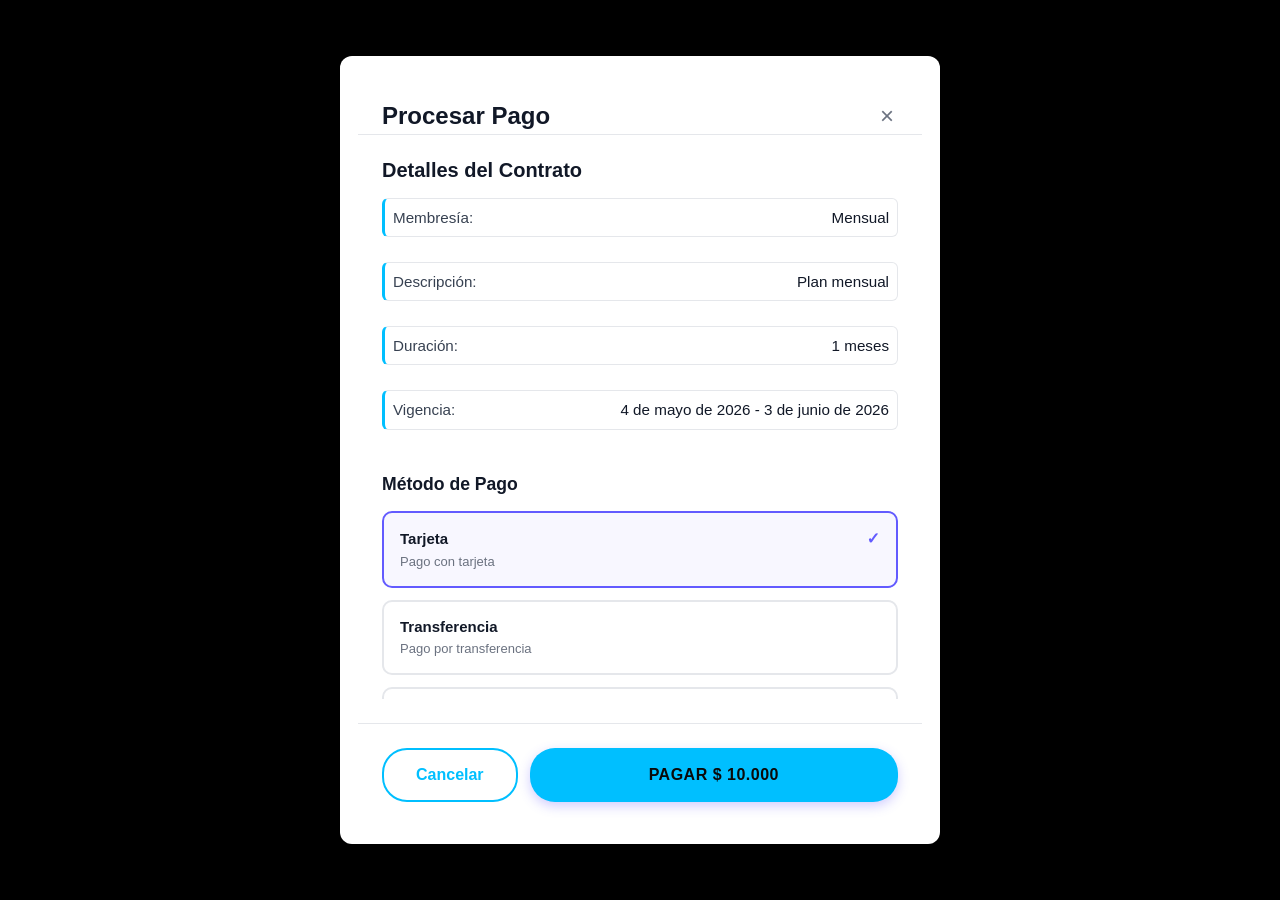
Test: PagoModal › muestra datos bancarios completos cuando se selecciona transferencia
Click the text "Transferencia" at (449, 627), box [400, 618, 498, 635]
(page scrolled)
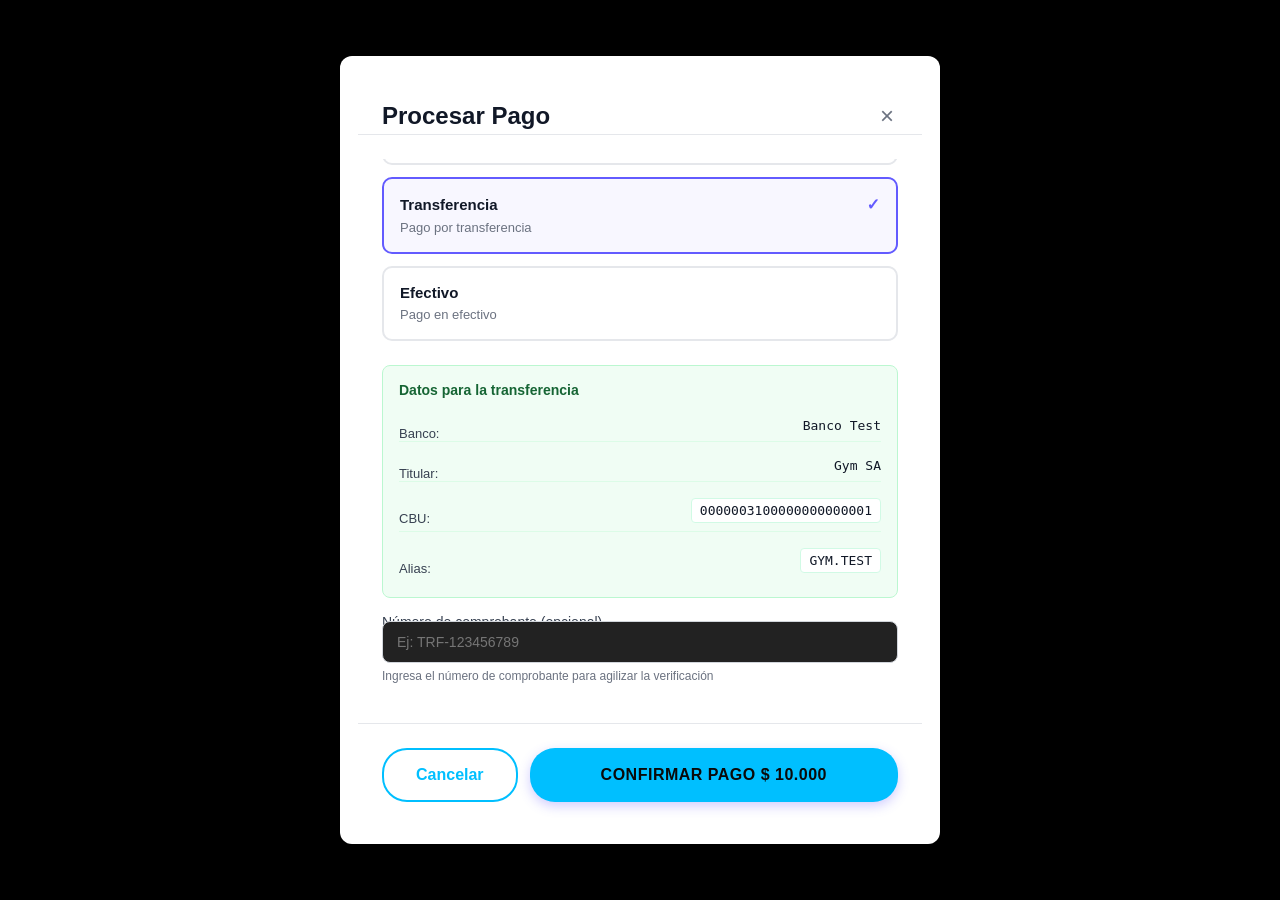
Result: the text "Banco Test" is shown at [803, 418, 881, 433]
Result: the text "Gym SA" is shown at [834, 458, 881, 473]
Result: the text "0000003100000000000001" is shown at [691, 498, 881, 523]
